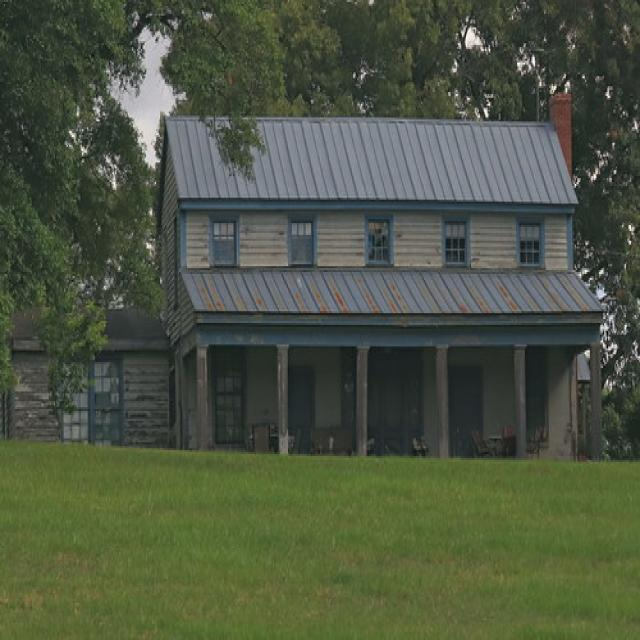building: (153, 103, 611, 465), (4, 301, 173, 449)
